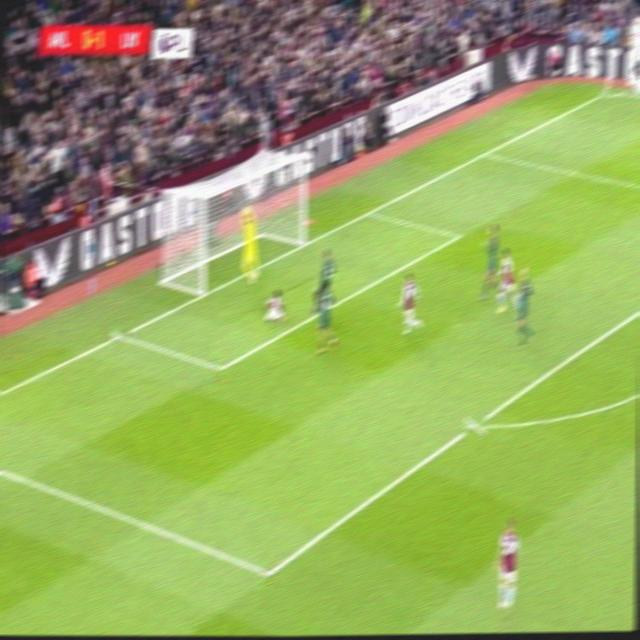bigarea_bottom_inner: (254, 556, 280, 590)
bigarea_top_outter: (475, 146, 490, 161)
bottom_arc_area_intersection: (463, 410, 485, 438)
corner: (598, 86, 616, 98)
smallarea_bottom_inner: (208, 353, 230, 382)
smallarea_bottom_outter: (110, 323, 130, 347)
smallarea_top_inner: (448, 226, 464, 245)
smallarea_top_outter: (359, 204, 374, 222)
